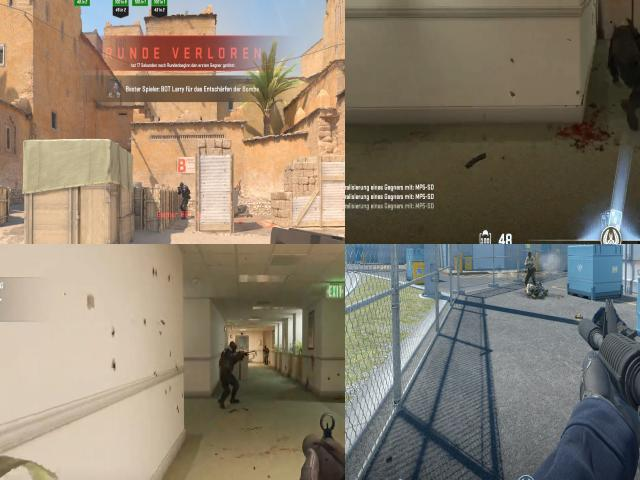Bomb: (573, 311, 587, 322)
CT: (220, 340, 241, 382), (178, 181, 190, 218)
CT-Head: (224, 339, 238, 354), (180, 182, 184, 188)
Dead: (606, 24, 640, 104), (592, 302, 638, 338), (525, 283, 548, 302)
T: (524, 250, 536, 286)
T-Head: (528, 252, 533, 259)
